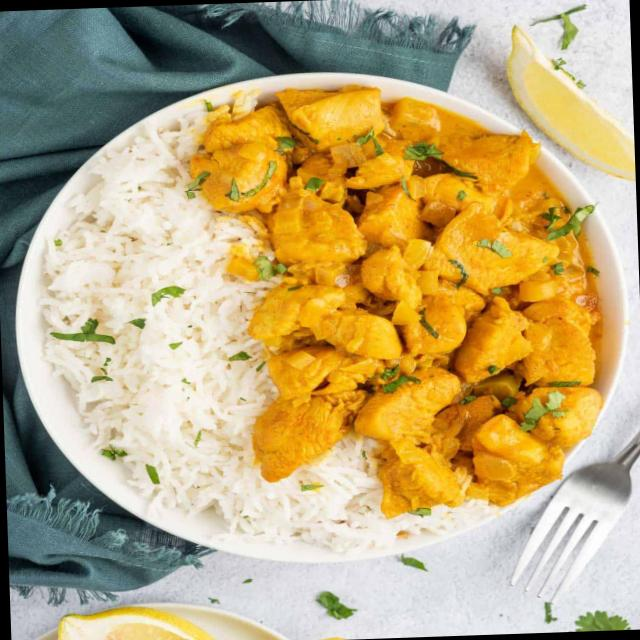chicken: (256, 85, 582, 498)
rice: (0, 135, 255, 460)
